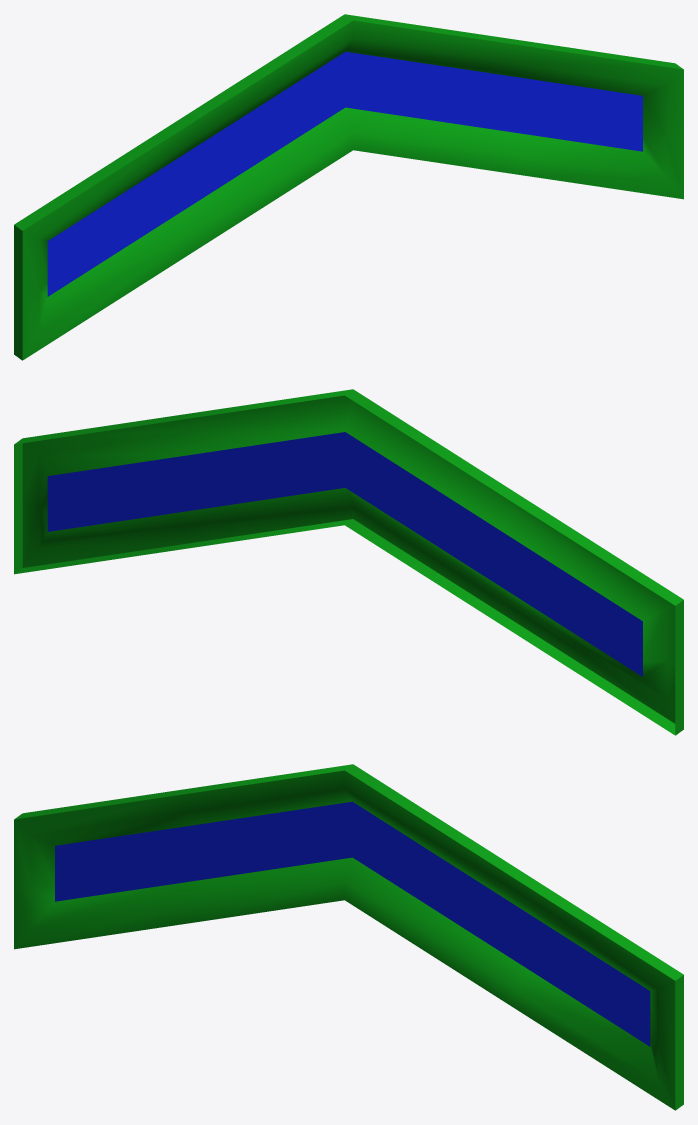
The model's file is Directional arrow.FBX.
3 renders of one model, top to bottom at view 1: azimuth 30°, elevation 25°; view 2: azimuth 150°, elevation 25°; view 3: azimuth 330°, elevation 25°, orthographic.
Visible parts, largest first — view 1: directional up arrow; view 2: directional up arrow; view 3: directional up arrow.
Boxes of the visible parts, left/top/right/bottom form: directional up arrow: left=14, top=14, right=683, bottom=360; directional up arrow: left=14, top=389, right=683, bottom=735; directional up arrow: left=14, top=764, right=683, bottom=1110.
Bounding box in the file's own units: 40 × 15 × 0.8955.
